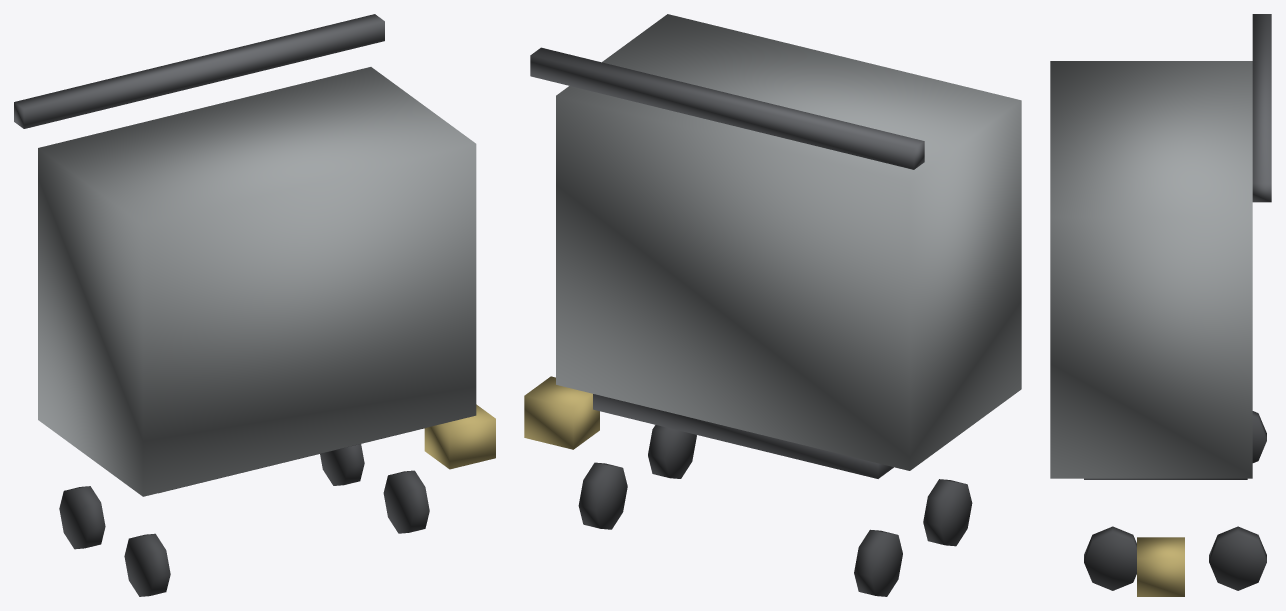
File: grocery_cart_02.glb
3 renders of one model, left to right at view 1: azimuth 30°, elevation 25°; view 2: azimuth 150°, elevation 25°; view 3: azimuth 270°, elevation 25°, orthographic. The views are drawn at different scales.
Parts seen in each view (by area): view 1: world; view 2: world; view 3: world.
Part boxes in pixels (left/top/right/bottom): world: left=14, top=14, right=495, bottom=596; world: left=524, top=14, right=1021, bottom=596; world: left=1050, top=14, right=1271, bottom=596.
Bounding box in the file's own units: 0.8544 × 0.882 × 0.414.
